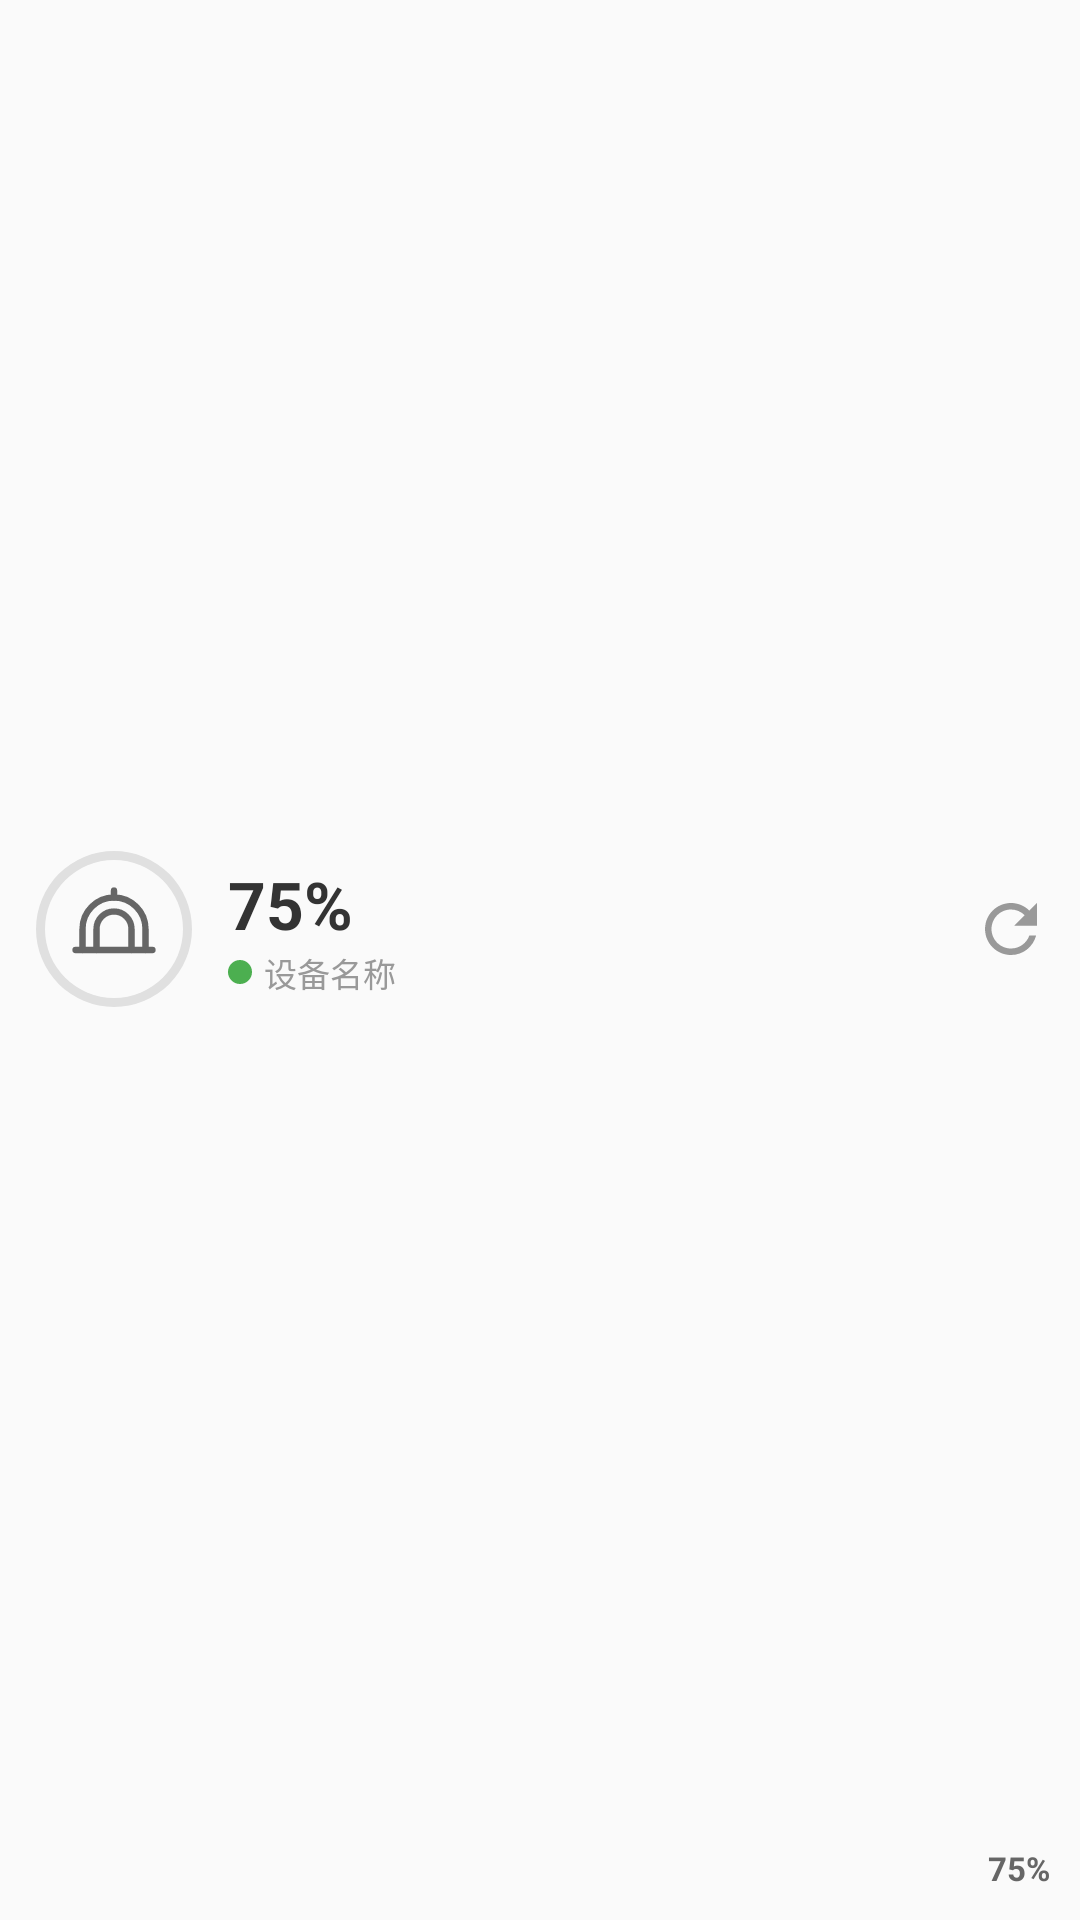

Screen size 1080x1920. Icon name, then its box in pixels as (x1, y1, x2, y2):
刷新: (985, 903, 1037, 955)
